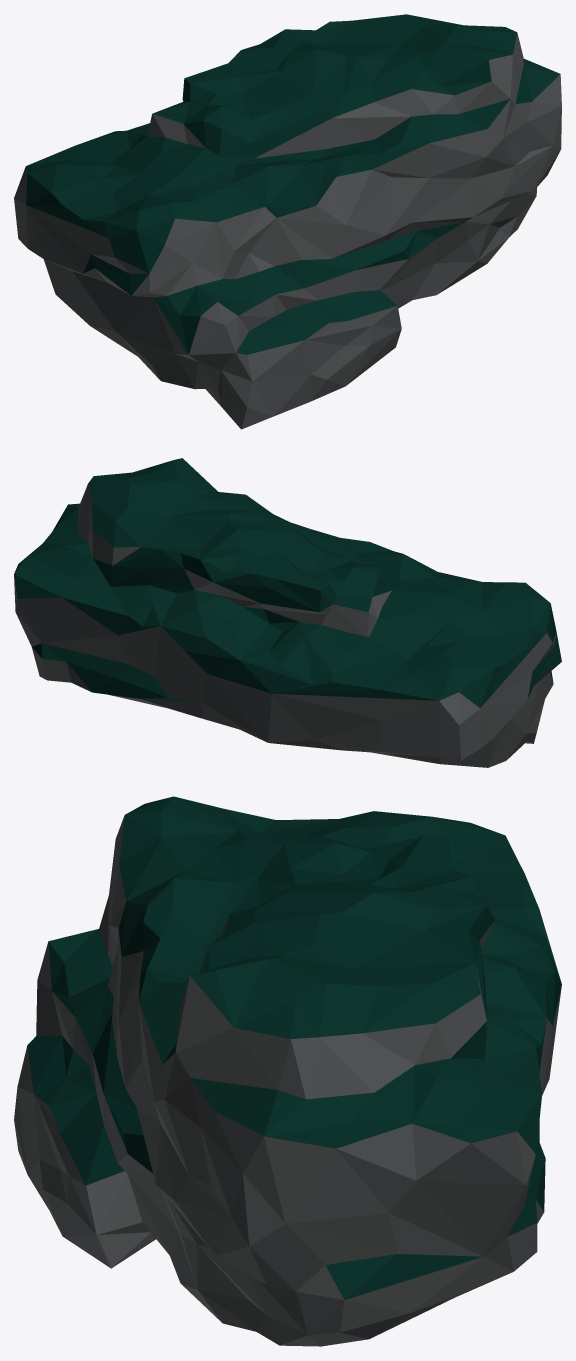
The model's file is MCastle_CliffRock_Sml_03.FBX.
3 views of the same model, one above another, from view 1: azimuth 30°, elevation 25°; view 2: azimuth 150°, elevation 25°; view 3: azimuth 270°, elevation 25° (orthographic). The views are drawn at different scales.
Visible parts, largest first — view 1: MCastle_CliffRock_Sml_03_LOD0; view 2: MCastle_CliffRock_Sml_03_LOD0; view 3: MCastle_CliffRock_Sml_03_LOD0.
Part boxes in pixels (x1,y1,x2,y2): MCastle_CliffRock_Sml_03_LOD0: (14,14,561,429); MCastle_CliffRock_Sml_03_LOD0: (14,458,561,767); MCastle_CliffRock_Sml_03_LOD0: (14,796,561,1346).
Size of what is drawn, in the model's own units: 6.85 by 3.55 by 4.24.
